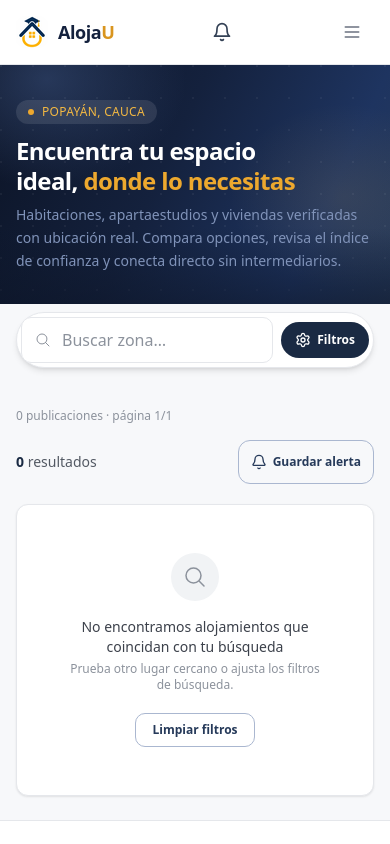
Test: App smoke honesto (shell + landing sin red) › R5 drawer móvil autenticado: tarjeta usuario → /perfil y salir en rojo
This screenshot has width=390, height=844.
Check: the heading "Encuentra tu espacio ideal, donde lo necesitas" is shown, box x1=16 y1=134 x2=295 y2=197
Click the button named "Abrir menú" at (352, 32), box x1=330 y1=10 x2=374 y2=54
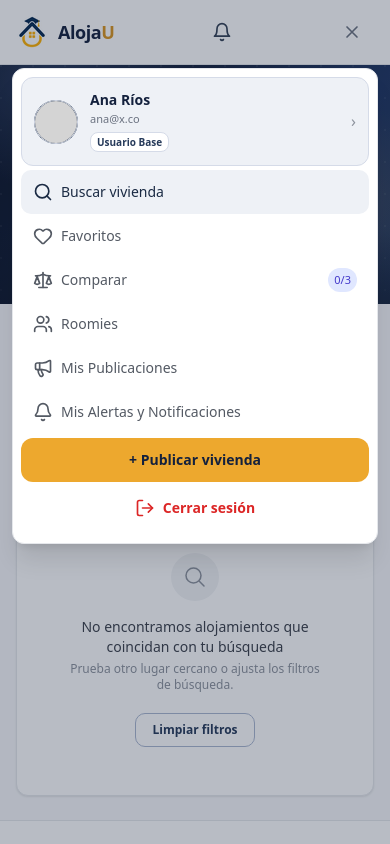
Check: the link with aria-label "Abrir mi perfil" shows "Ana Ríos", box x1=21 y1=77 x2=369 y2=166
Check: the link with aria-label "Abrir mi perfil" shows "ana@x.co", box x1=21 y1=77 x2=369 y2=166
Check: the button "Cerrar sesión" is shown, box x1=21 y1=486 x2=369 y2=535
